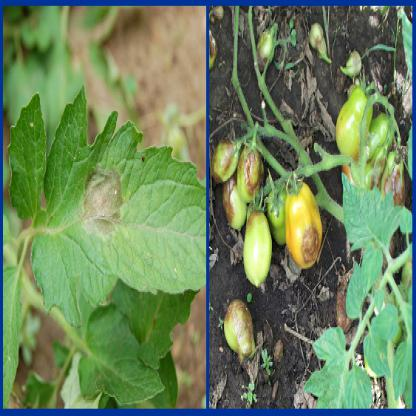tomato leaf late blight: (10, 93, 205, 334)
